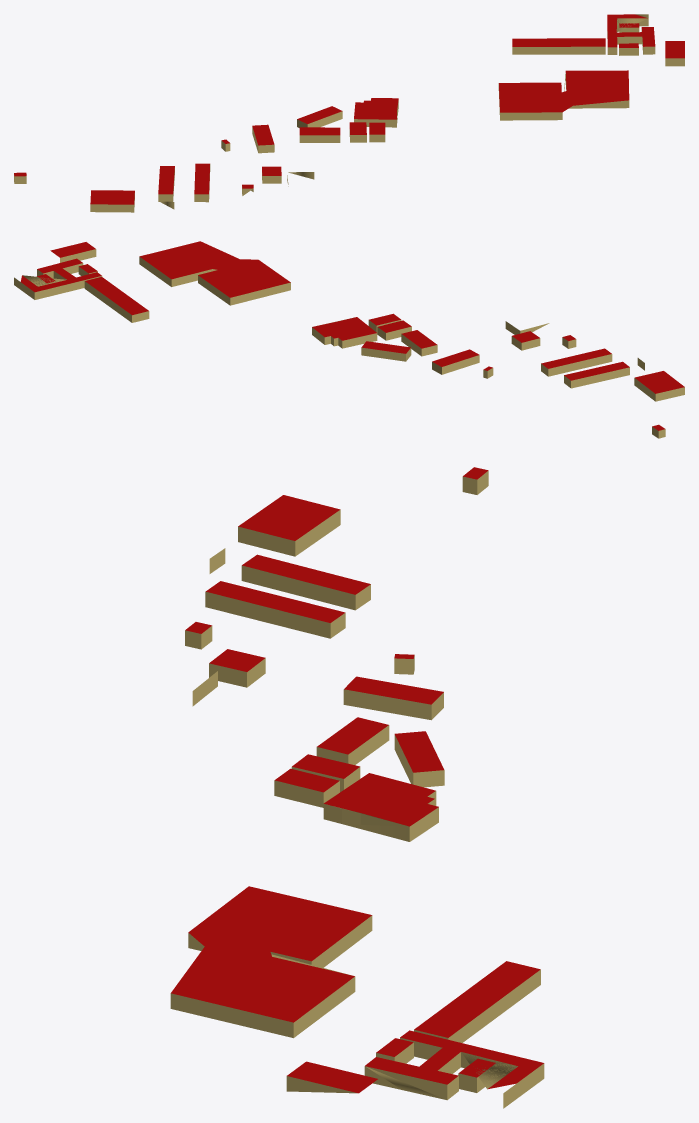
3 views of the same model, one above another, from view 1: azimuth 30°, elevation 25°; view 2: azimuth 150°, elevation 25°; view 3: azimuth 270°, elevation 25° (orthographic). The views are drawn at different scales.
Size of the model in its own units: 647 by 7.5 by 170.
